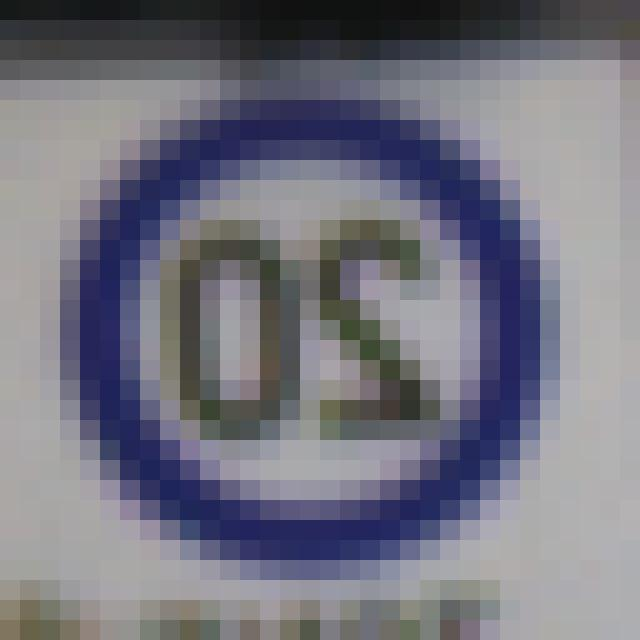SPEED LIMIT 20: (54, 85, 568, 575)
